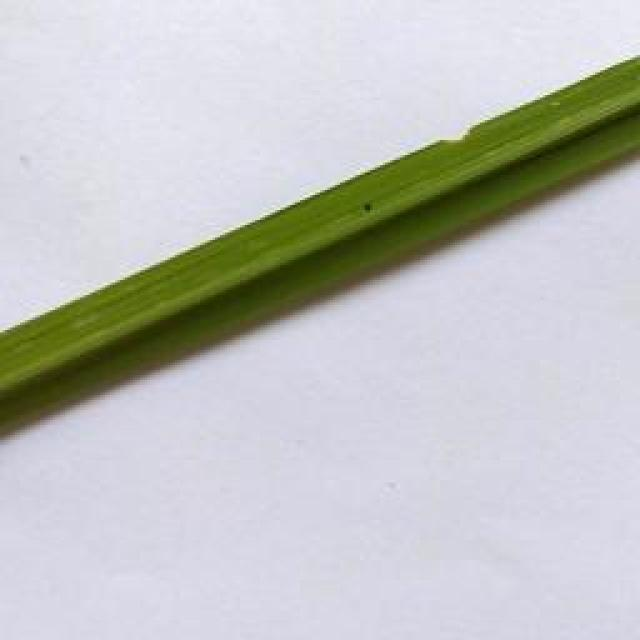Healthy-Plant: (0, 52, 640, 424)
